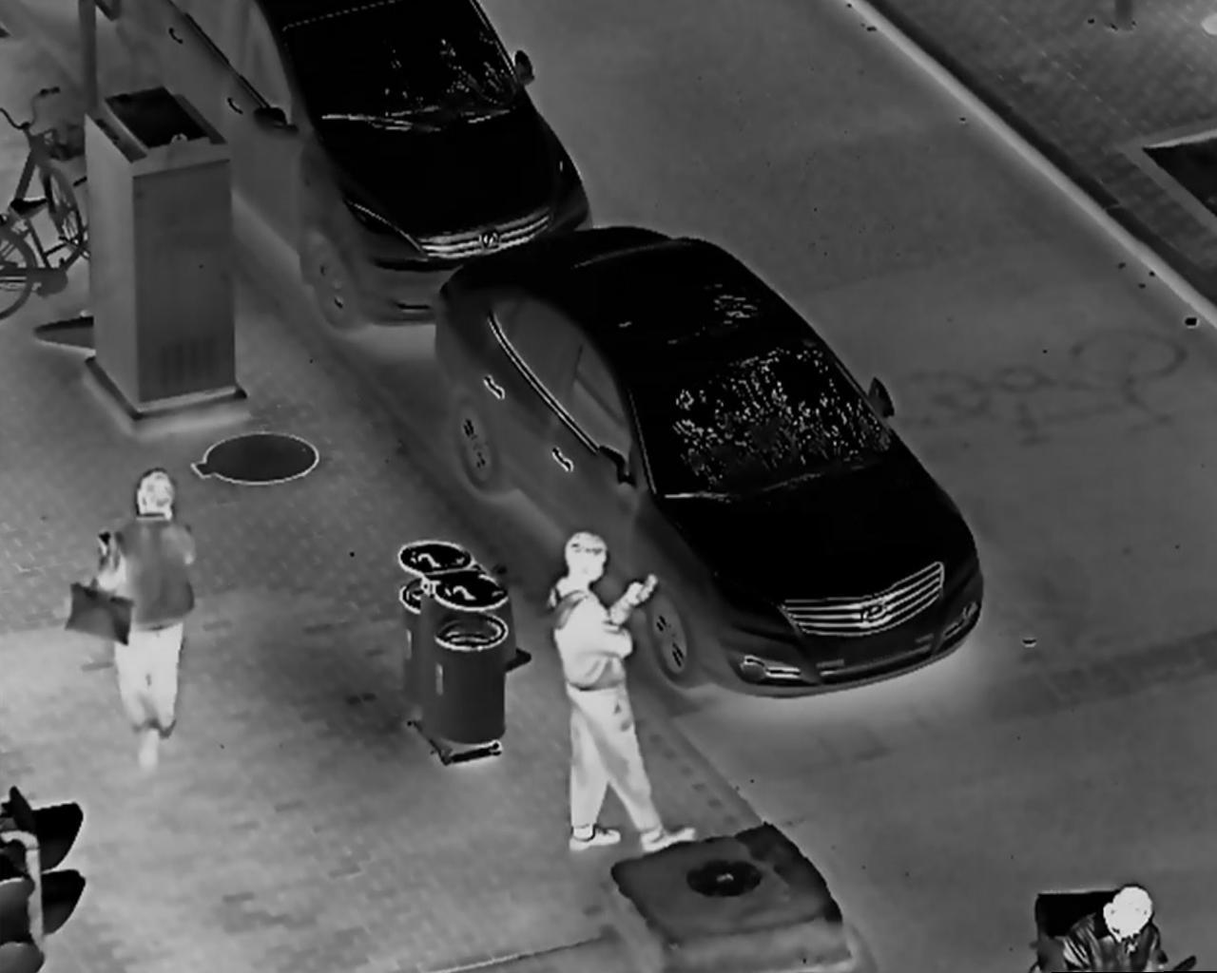person: (546, 525, 699, 853), (79, 468, 193, 772), (1050, 882, 1182, 973)
